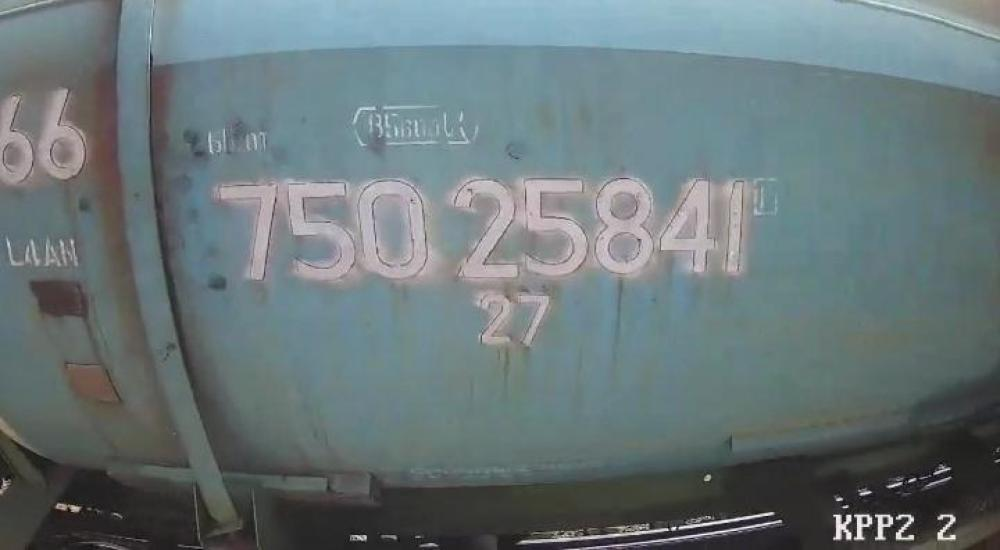Wagon-number: (211, 174, 752, 284)
